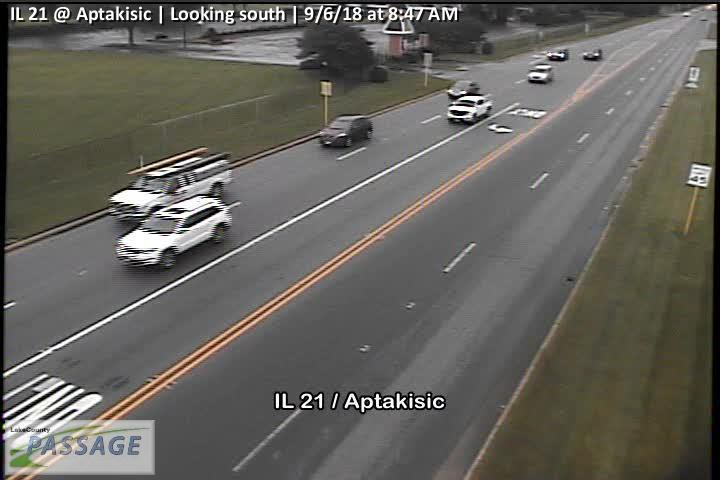SUV: (114, 195, 232, 269), (110, 151, 231, 216)
Sedan: (320, 114, 373, 148), (447, 95, 492, 125), (446, 79, 479, 96), (527, 64, 553, 82), (546, 47, 569, 59)
